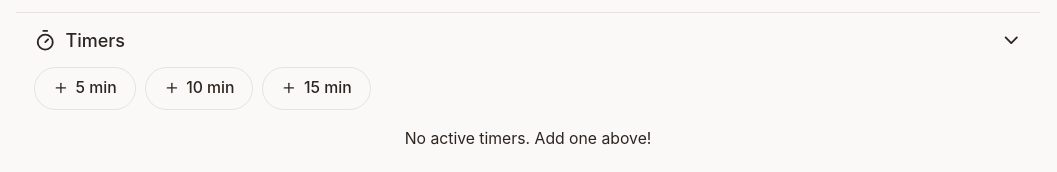
Test: TimerPanel › can be collapsed
This screenshot has width=1057, height=172.
Expected: the button "5 min" is shown, [34,67,136,110]
// Click header to collapse
Click the button "Timers" at (95, 40), box [16,13,1040,67]
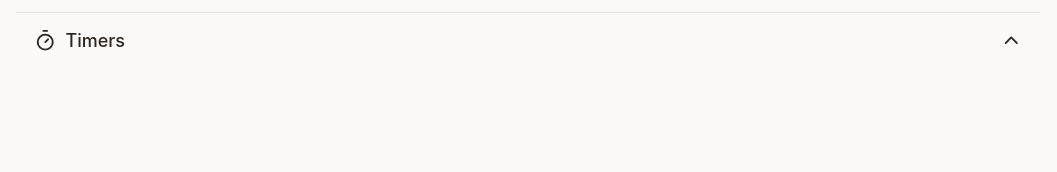
Expected: the button "5 min" is gone
